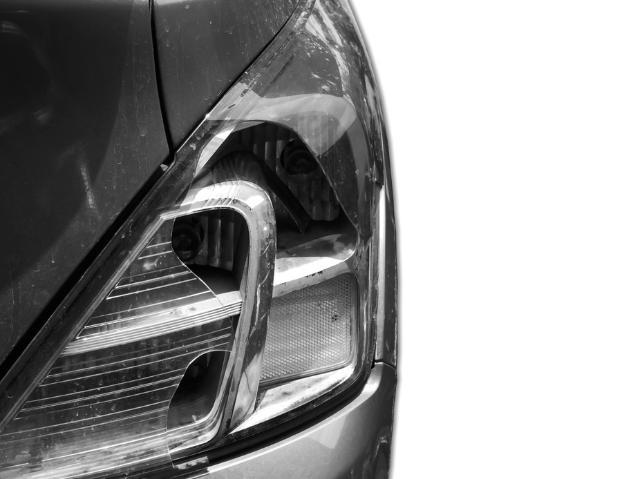Light: (0, 0, 403, 479)
